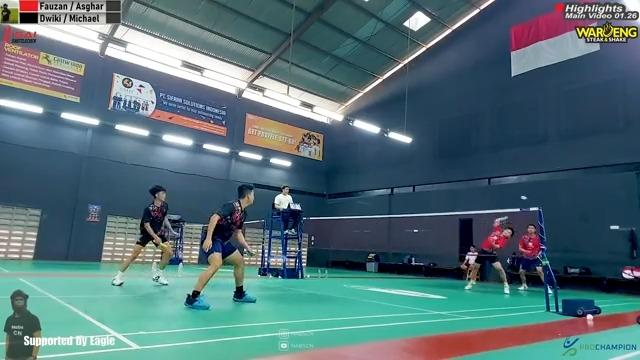Shuttlecock: (520, 192, 528, 202)
